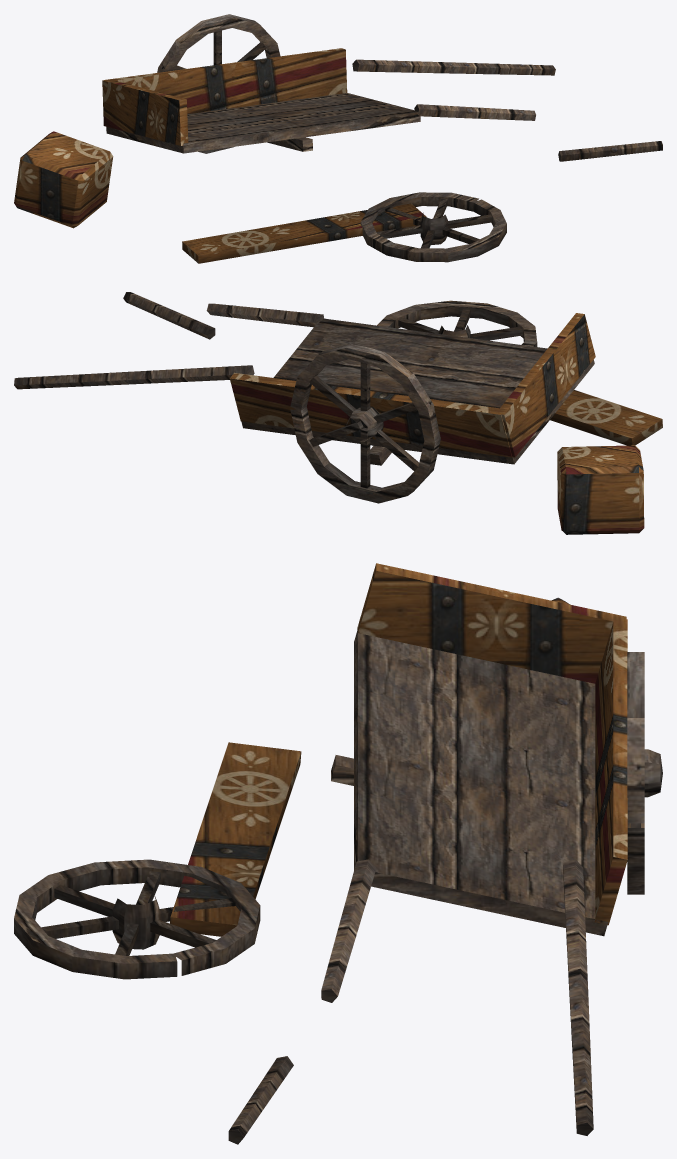
Rendered from cart_broken.glb.
The picture shows the model from 3 angles, top to bottom: view 1: azimuth 30°, elevation 25°; view 2: azimuth 150°, elevation 25°; view 3: azimuth 270°, elevation 25°; orthographic projection. The views are drawn at different scales.
Visible parts, largest first — view 1: cart_broken; view 2: cart_broken; view 3: cart_broken.
Boxes of the visible parts, x1,y1,x2,y2 form: cart_broken: (14,14,662,263); cart_broken: (14,292,662,534); cart_broken: (14,563,662,1144).
Size of the model in its own units: 4.39 by 1.03 by 2.64.
2 materials, 2 textured.
